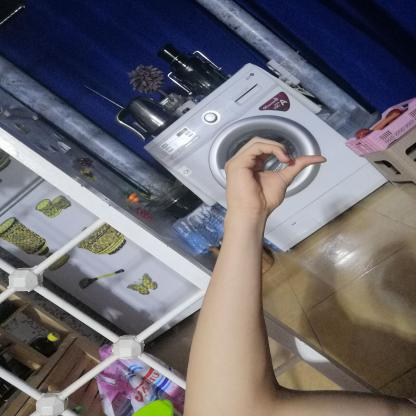WAW: (212, 127, 340, 226)
